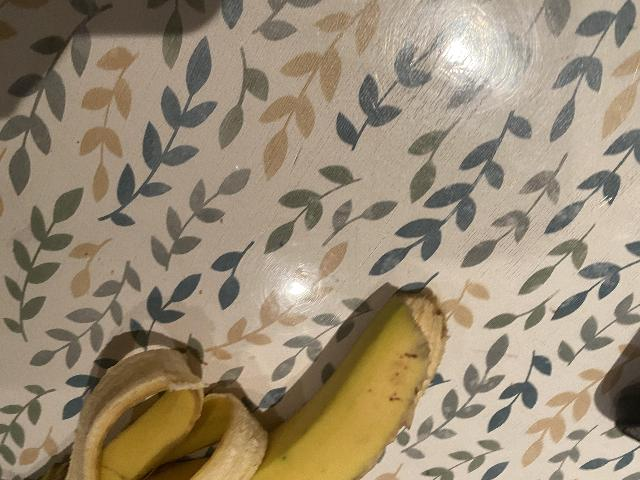Organik: (251, 275, 454, 480), (76, 343, 210, 480), (198, 387, 281, 480)
